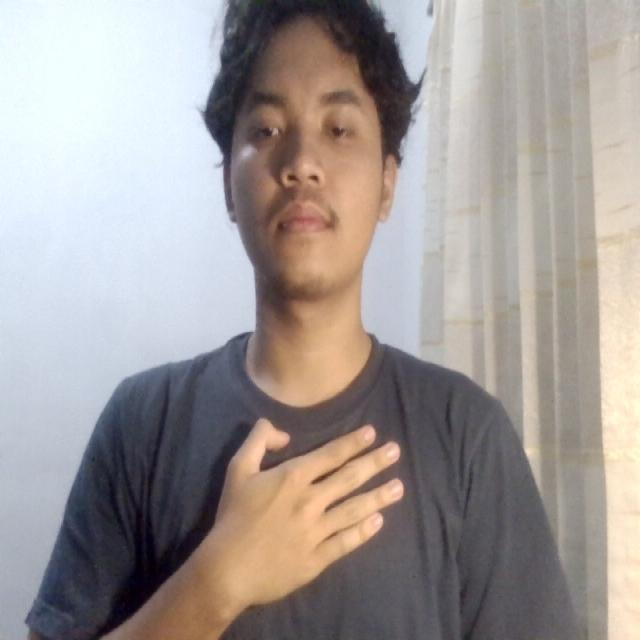Nama: (196, 401, 427, 612)
